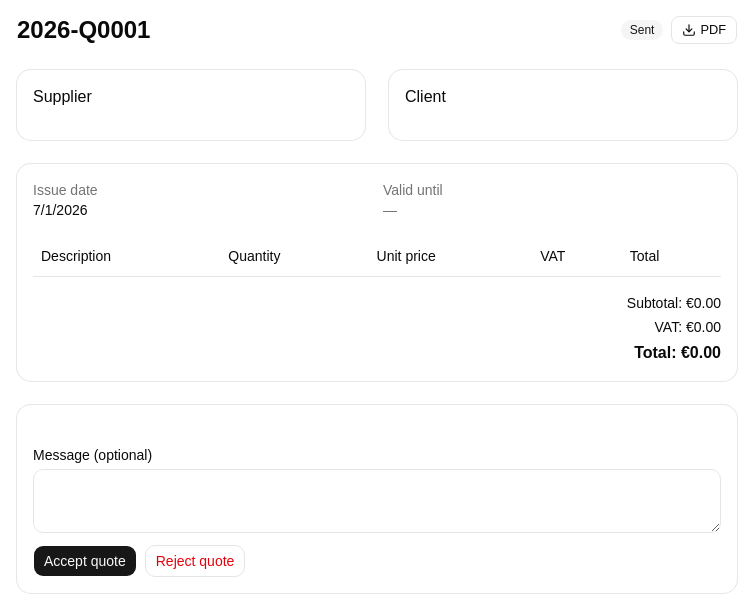
Test: public quote page › accepts the quote after confirming
Click the button "Accept quote": (85, 560) [33,544,137,576]
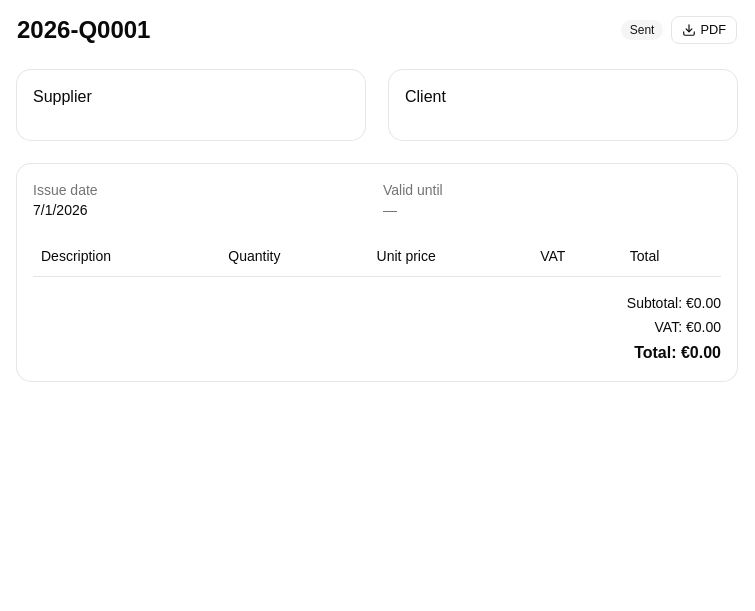
Expected: the button "Accept quote" is gone
